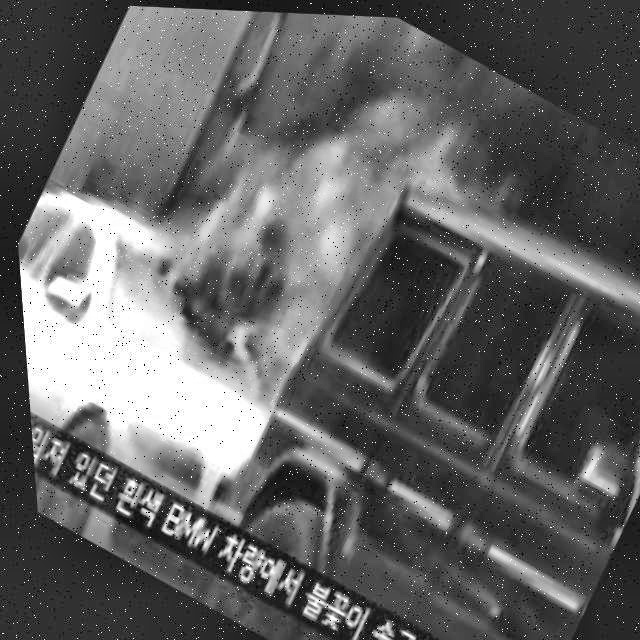Fire: (97, 21, 551, 483)
Smoke: (263, 9, 640, 232)
